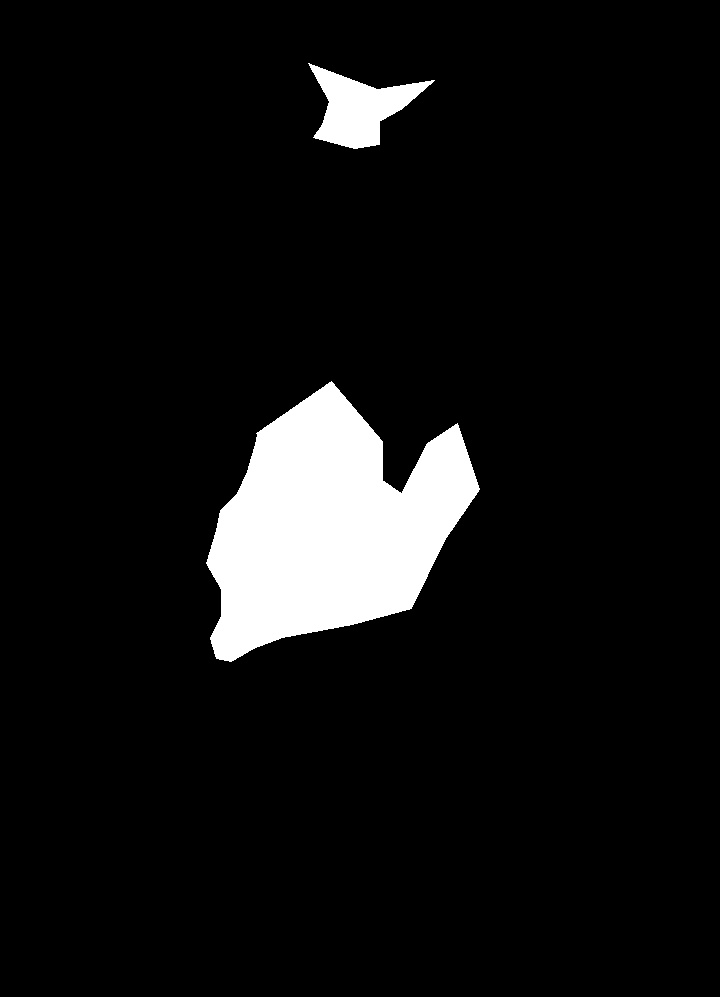Fire: (203, 392, 459, 662), (305, 55, 422, 145)
